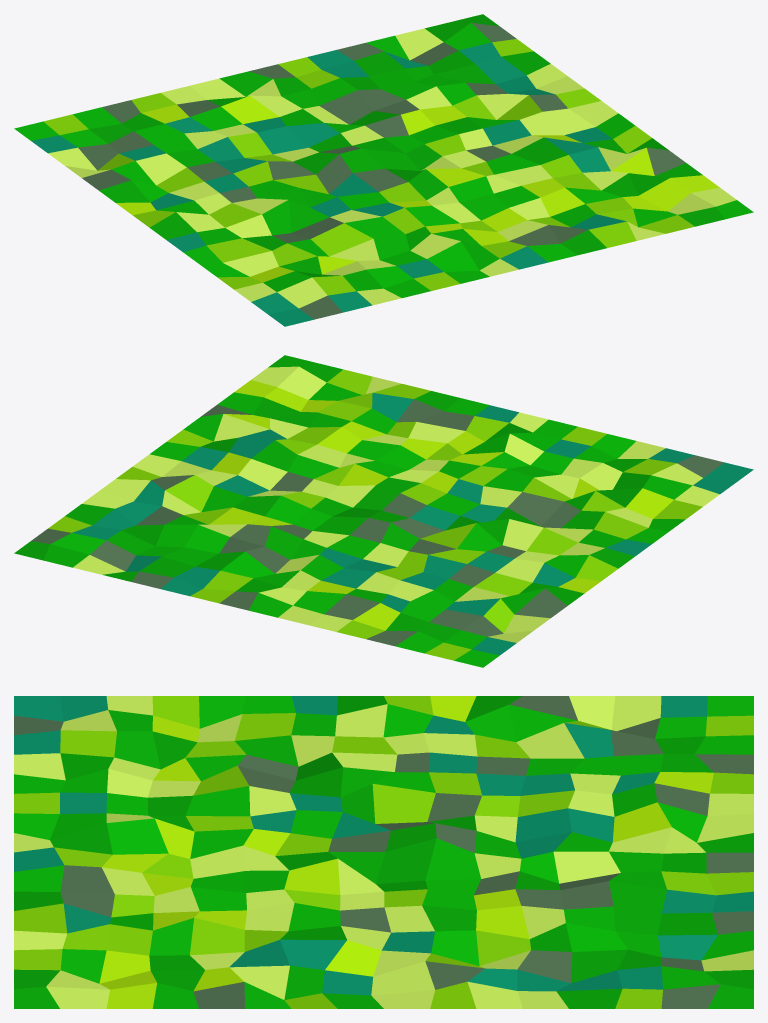
File: grass_5.glb
3 views of the same model, one above another, from view 1: azimuth 30°, elevation 25°; view 2: azimuth 150°, elevation 25°; view 3: azimuth 270°, elevation 25° (orthographic). The views are drawn at different scales.
Parts seen in each view (by area): view 1: grass; view 2: grass; view 3: grass.
Part boxes in pixels (box(x1,y1,x2,y2)): grass: box(14, 14, 753, 326); grass: box(14, 355, 753, 667); grass: box(14, 696, 753, 1008).
Size of the model in its own units: 4 by 0.1729 by 4.
